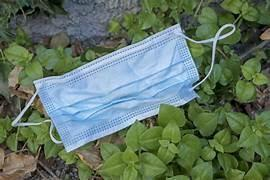Mask: (12, 24, 234, 150)
